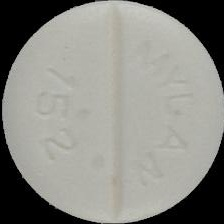0378-0152: (0, 0, 224, 224)
